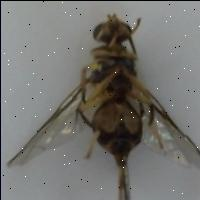Oriental-fruit-fly: (4, 6, 200, 200)
